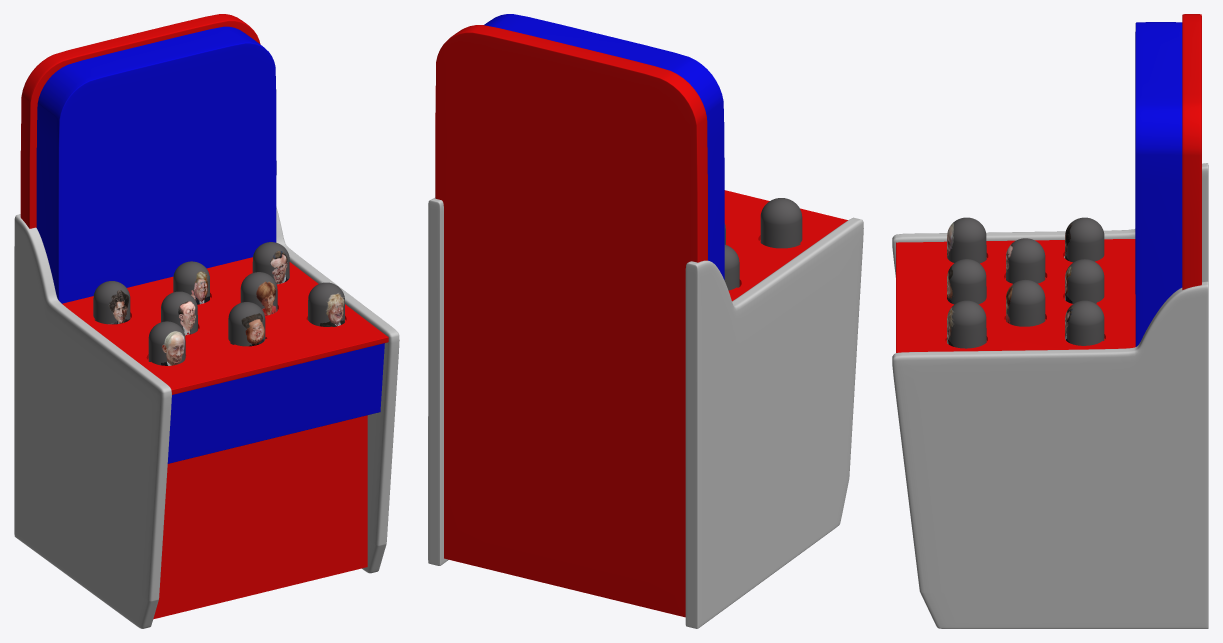
The model's file is skeeball (1).fbx.
The picture shows the model from 3 angles, left to right: view 1: azimuth 30°, elevation 25°; view 2: azimuth 150°, elevation 25°; view 3: azimuth 270°, elevation 25°; orthographic projection. The views are drawn at different scales.
Parts seen in each view (by area): view 1: polySurface34, polySurface35, polySurface31, polySurface30, polySurface28, polySurface36, polySurface29, Kim2, Putin1, Putin3, Putin8, Putin5 (+3 smaller); view 2: polySurface29, polySurface35, polySurface34, polySurface36, polySurface30, Putin1, Putin8; view 3: polySurface36, polySurface30, polySurface34, polySurface29, polySurface35, Putin3, Putin5, Putin6, Putin1, Putin4, Kim2, Putin8 (+1 smaller).
Boxes of the visible parts, x1=… form: polySurface34: x1=36, y1=26, x2=276, y2=303; polySurface35: x1=14, y1=214, x2=171, y2=628; polySurface31: x1=153, y1=415, x2=367, y2=619; polySurface30: x1=62, y1=257, x2=388, y2=394; polySurface28: x1=167, y1=343, x2=384, y2=463; polySurface36: x1=276, y1=207, x2=399, y2=573; polySurface29: x1=20, y1=14, x2=260, y2=318; Kim2: x1=228, y1=302, x2=265, y2=346; Putin1: x1=148, y1=321, x2=185, y2=365; Putin3: x1=308, y1=282, x2=344, y2=326; Putin8: x1=93, y1=281, x2=130, y2=324; Putin5: x1=240, y1=272, x2=277, y2=315; polySurface29: x1=435, y1=25, x2=707, y2=617; polySurface35: x1=685, y1=217, x2=863, y2=628; polySurface34: x1=484, y1=14, x2=724, y2=279; polySurface36: x1=428, y1=198, x2=448, y2=565; polySurface30: x1=724, y1=190, x2=847, y2=301; Putin1: x1=760, y1=198, x2=802, y2=248; Putin8: x1=724, y1=244, x2=739, y2=290; polySurface36: x1=892, y1=281, x2=1208, y2=628; polySurface30: x1=896, y1=239, x2=1135, y2=352; polySurface34: x1=1135, y1=22, x2=1182, y2=346; polySurface29: x1=1182, y1=14, x2=1201, y2=289; polySurface35: x1=892, y1=163, x2=1208, y2=282; Putin3: x1=947, y1=300, x2=986, y2=348; Putin5: x1=1006, y1=279, x2=1045, y2=326; Putin6: x1=1065, y1=300, x2=1104, y2=345; Putin1: x1=947, y1=217, x2=986, y2=263; Putin4: x1=1006, y1=238, x2=1045, y2=283; Kim2: x1=947, y1=259, x2=986, y2=304; Putin8: x1=1065, y1=217, x2=1104, y2=262.
Bounding box in the file's own units: 14.96 × 28.58 × 16.08.
